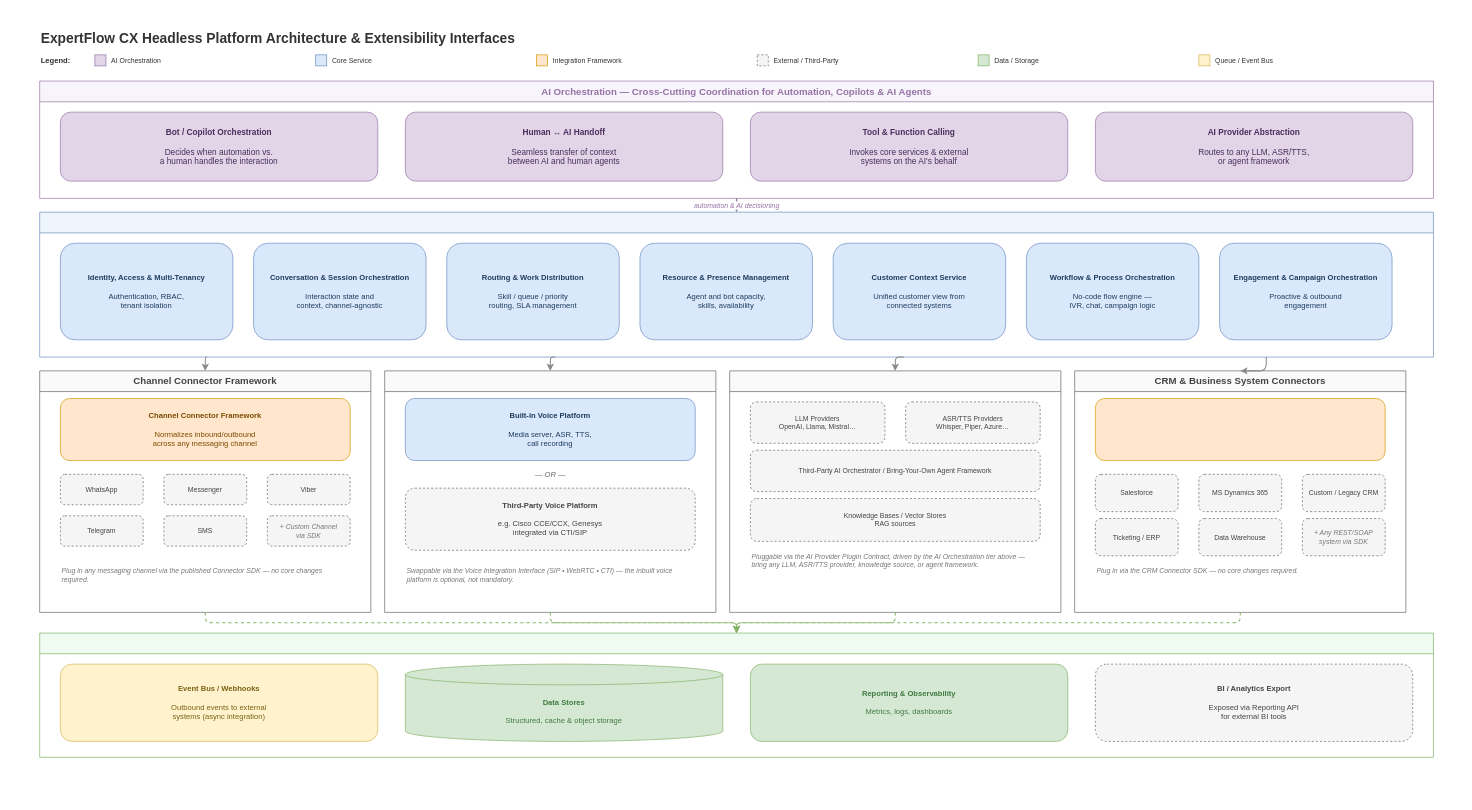
Some shapes in this 1472 by 810 pixel diagram are drawn without their labels. Each missing label, with the box of its shape:
AI Provider Ecosystem: (729, 370, 1061, 612)
CRM Connector Framework Unified customer profile across connected systems: (1095, 398, 1385, 461)
Data, Eventing & Observability (Exposed via API): (39, 632, 1433, 757)
Headless Core Platform — Core Services (Channel- and UI-Agnostic): (39, 211, 1433, 357)
Voice Interface (Built-in or Third-Party): (384, 370, 716, 612)
